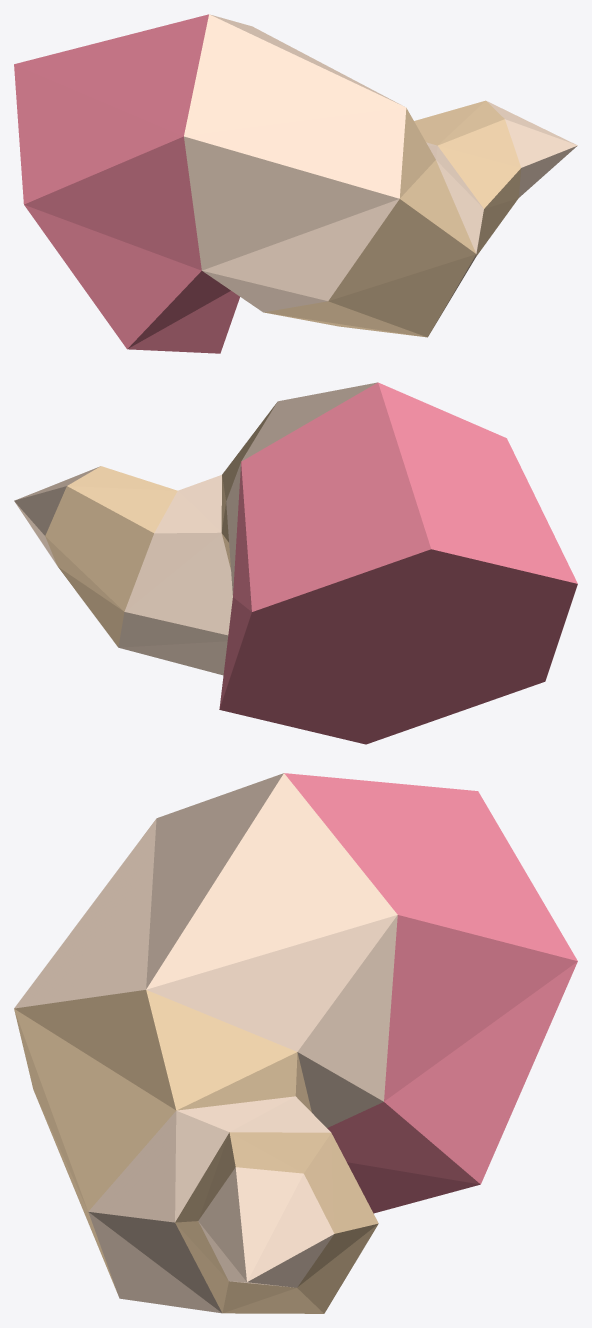
The model's file is shell_conch.fbx.
3 views of the same model, one above another, from view 1: azimuth 30°, elevation 25°; view 2: azimuth 150°, elevation 25°; view 3: azimuth 270°, elevation 25° (orthographic). The views are drawn at different scales.
Parts seen in each view (by area): view 1: shell_conch; view 2: shell_conch; view 3: shell_conch.
Boxes of the visible parts, left/top/right/bottom form: shell_conch: left=14, top=14, right=577, bottom=353; shell_conch: left=14, top=382, right=577, bottom=744; shell_conch: left=14, top=773, right=577, bottom=1313.
Size of the model in its own units: 343 by 207 by 231.
Materials: 1 (1 with a texture image).
